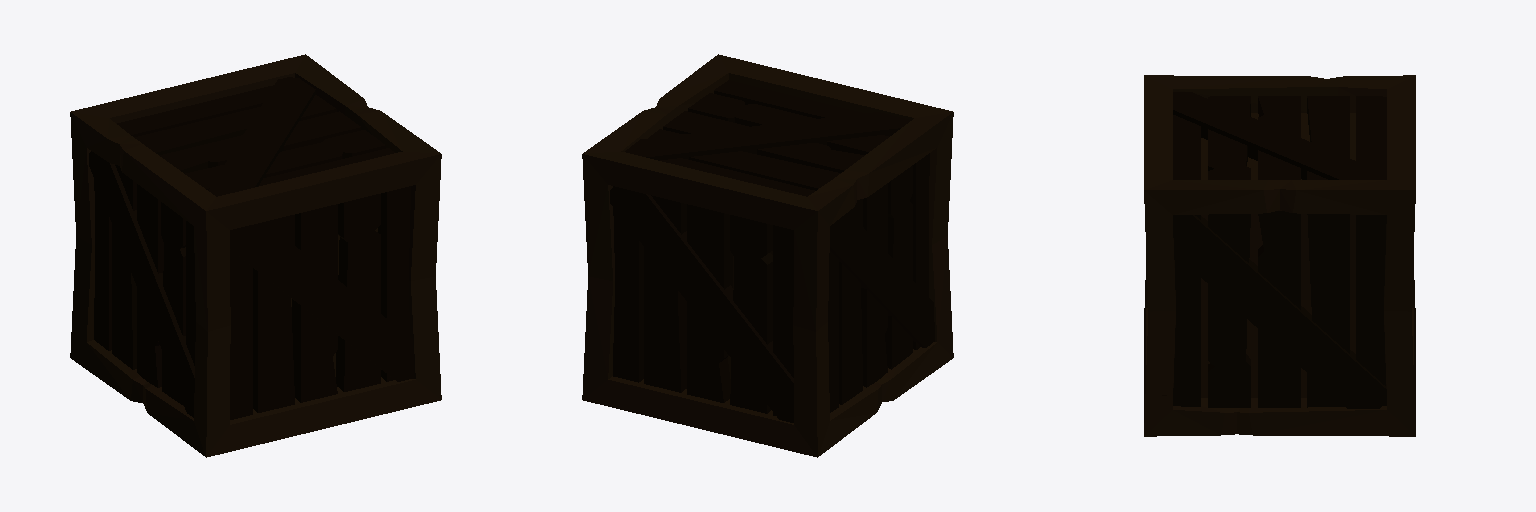
The model's file is Crate.obj.
The picture shows the model from 3 angles: view 1: azimuth 30°, elevation 25°; view 2: azimuth 150°, elevation 25°; view 3: azimuth 270°, elevation 25°; orthographic projection.
Parts seen in each view (by area): view 1: Crate; view 2: Crate; view 3: Crate.
Part boxes in pixels (left/top/right/bottom): Crate: left=70, top=54, right=441, bottom=457; Crate: left=582, top=54, right=953, bottom=457; Crate: left=1144, top=75, right=1415, bottom=436.
Bounding box in the file's own units: 0.8239 × 0.824 × 0.824.